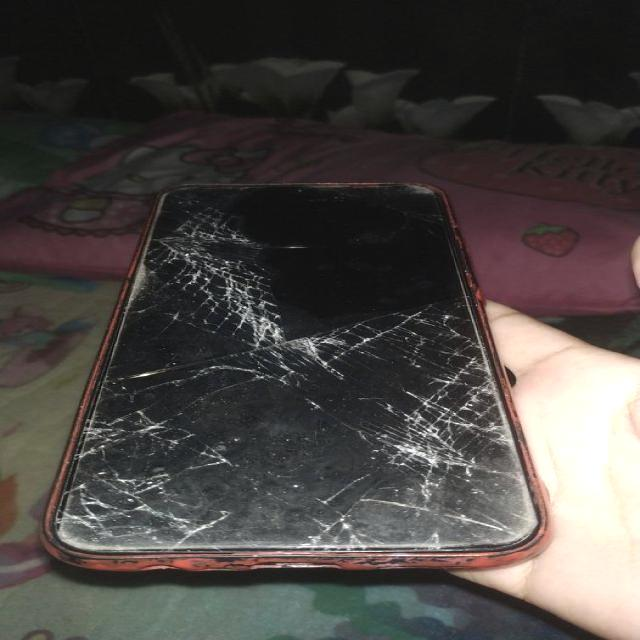phone: (62, 186, 537, 564)
